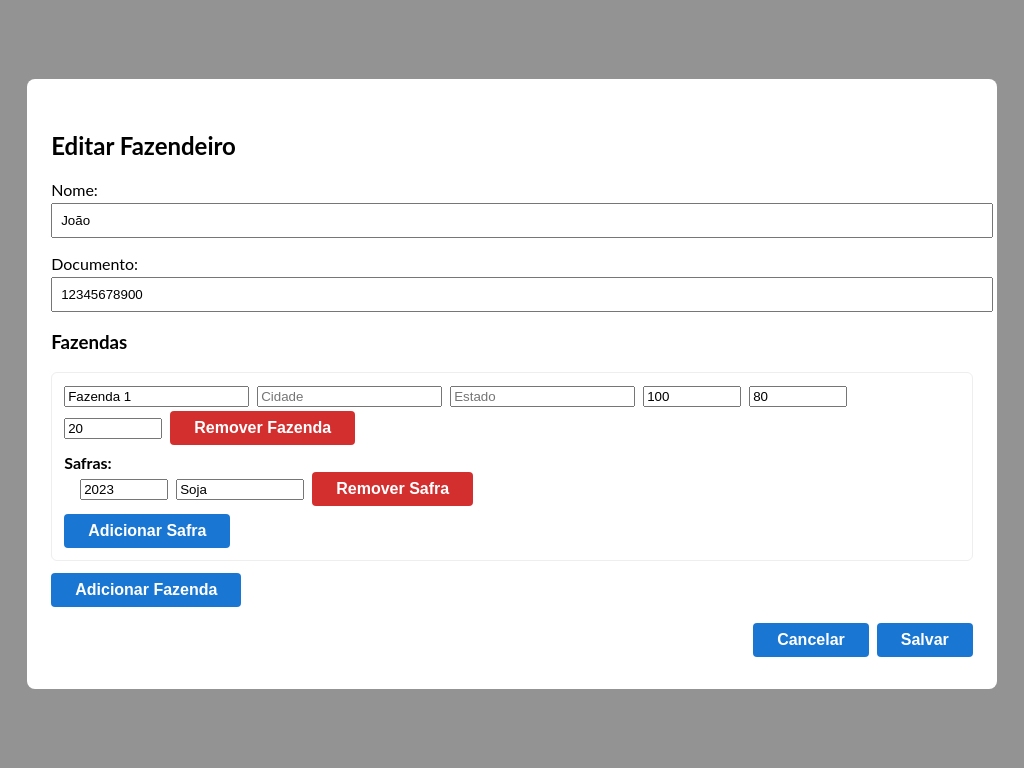
Scenario: EditFarmerModal › adds a new harvest
Click the button "Adicionar Safra" at (147, 531), box [64,514,230,548]
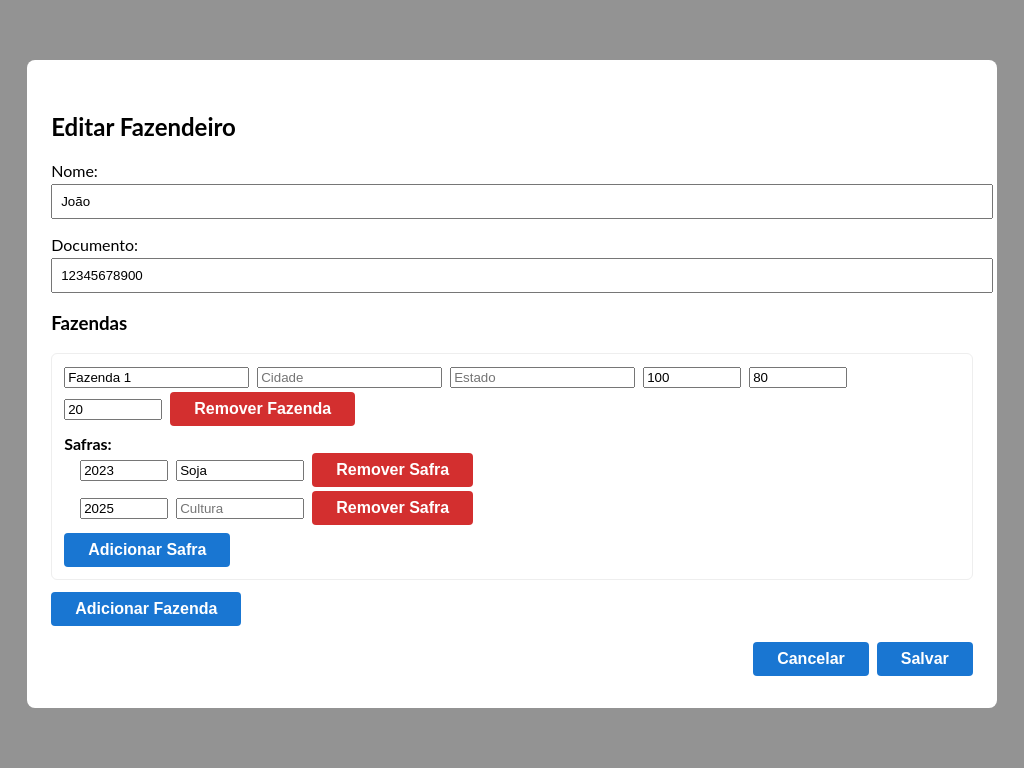
Expected: the number of number fields with placeholder "Ano" is 2, [80,460,168,481]; [80,498,168,519]
